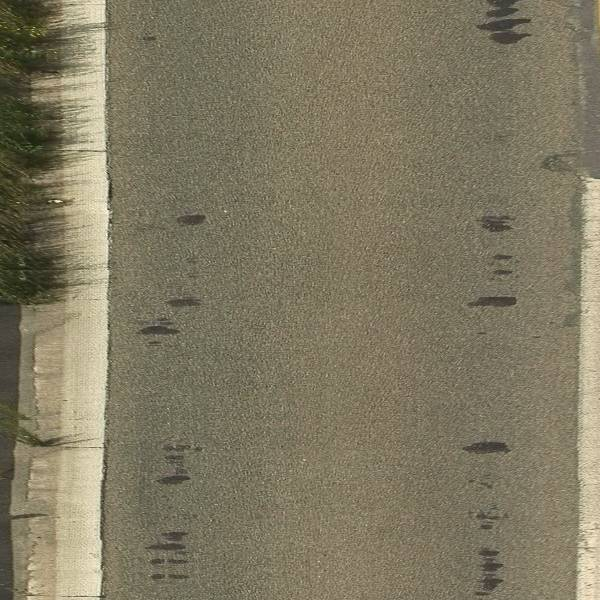road_damage: (538, 5, 600, 193)
